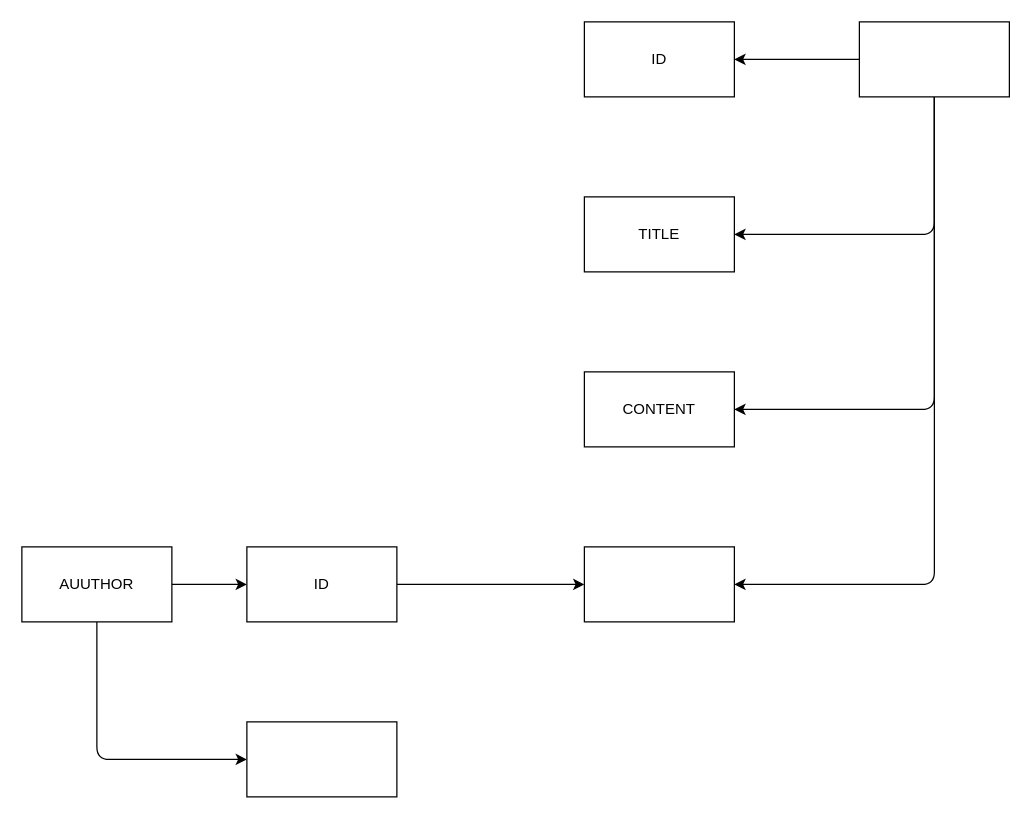
Image size: 1031x819. Some labels were removed from this diagram. Here are the shapes that lost their labels. From the top down, the centre of each, then its label:
At [933,59]: "POST".
At [658,584]: "AUTHOR_ID".
At [321,759]: "NAME".
